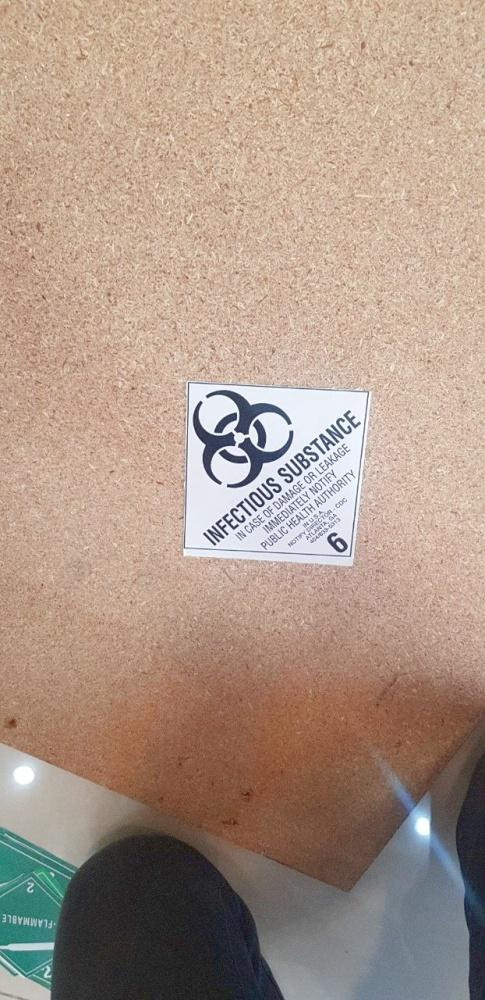infectious-substance: (181, 383, 373, 567)
